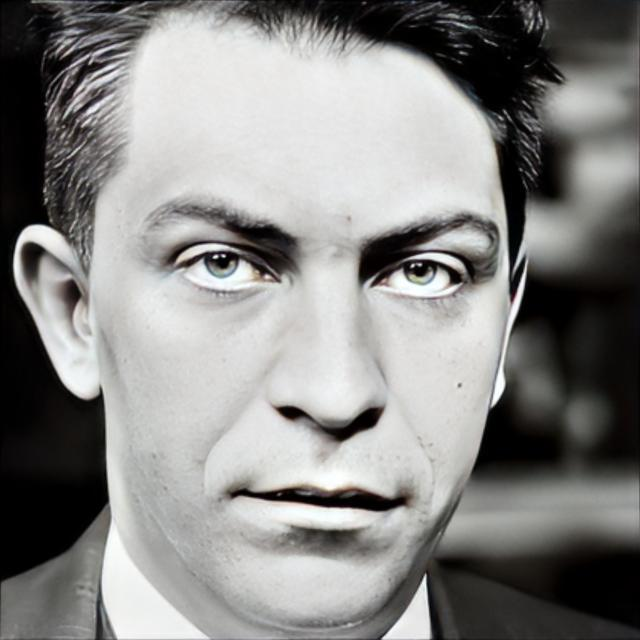anger: (100, 36, 511, 630)
